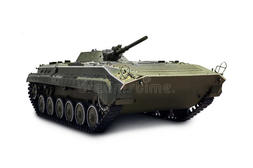bmp: (18, 35, 233, 134)
